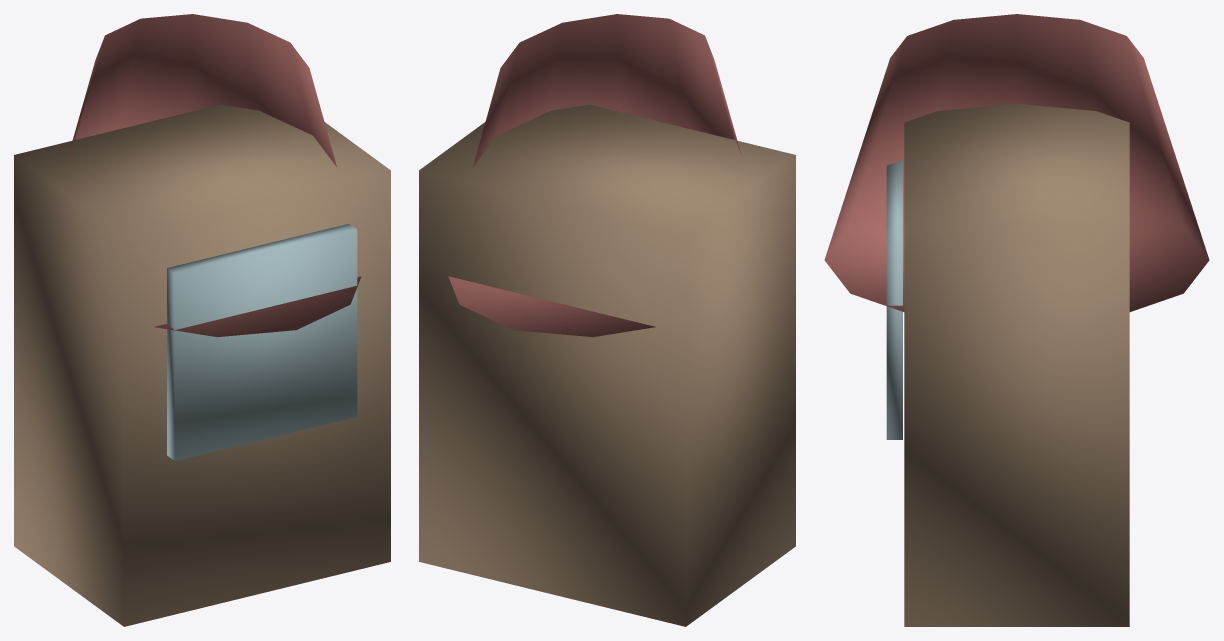
Rendered from jukebox__deep.glb.
3 views of the same model, side by side, from view 1: azimuth 30°, elevation 25°; view 2: azimuth 150°, elevation 25°; view 3: azimuth 270°, elevation 25° (orthographic). The views are drawn at different scales.
Visible parts, largest first — view 1: world; view 2: world; view 3: world.
Part boxes in pixels (bbox=[...]): world: bbox=[14, 14, 390, 626]; world: bbox=[419, 14, 795, 626]; world: bbox=[824, 14, 1209, 626].
Bounding box in the file's own units: 0.82 × 1.44 × 1.
